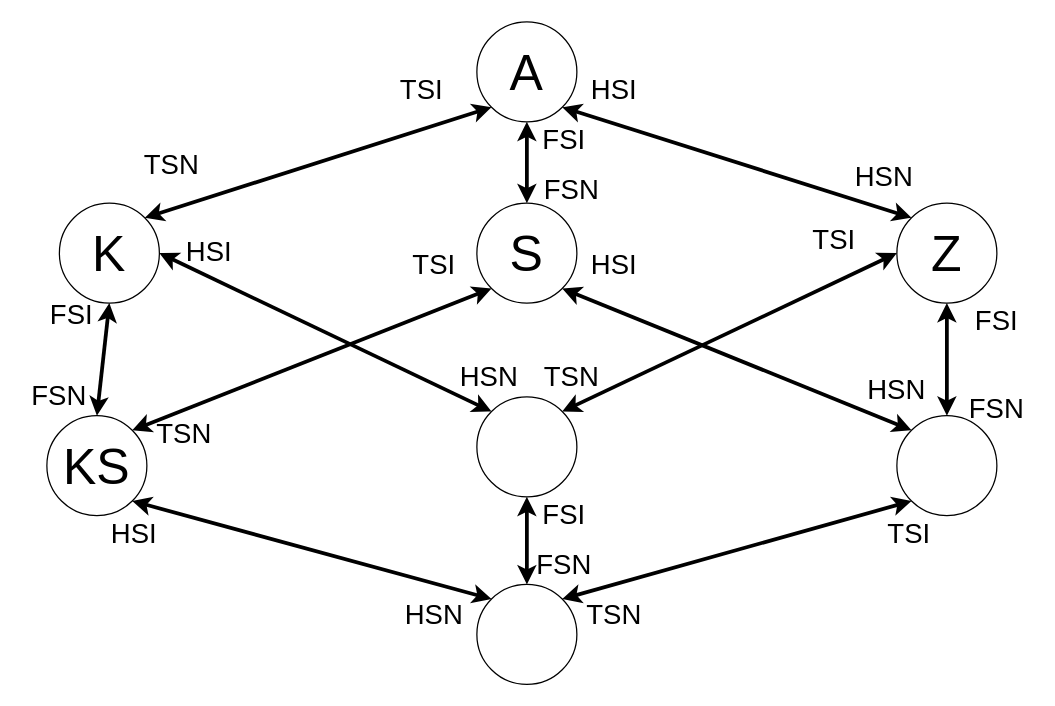
The diagram is 1055 pixels wide and 706 high, and some of its shapes have lost their labels. Here are the shapes that lost their labels. From the top down, the centre of each, then its label:
At pixel 526 446: "KZ".
At pixel 946 465: "ZS".
At pixel 526 633: "SZ".
